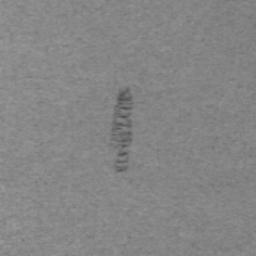Secondary rust skin: (108, 86, 135, 173)
